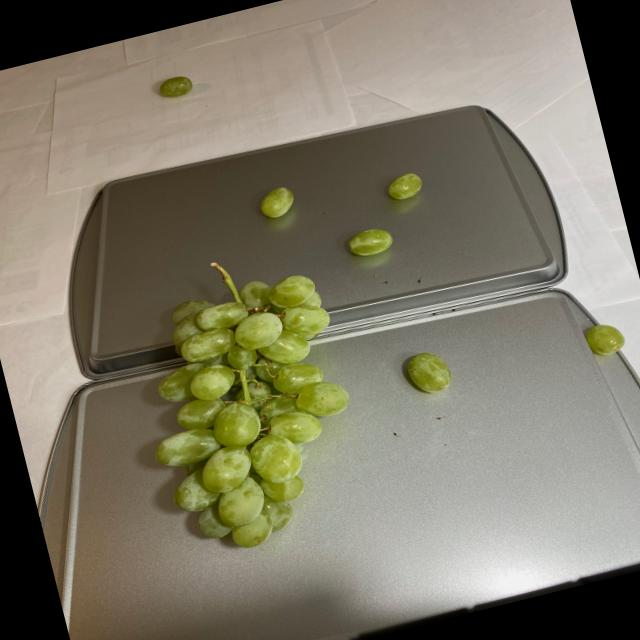grapes: (110, 212, 468, 568), (380, 162, 430, 205), (254, 183, 302, 224), (582, 318, 628, 360), (150, 72, 194, 102)
